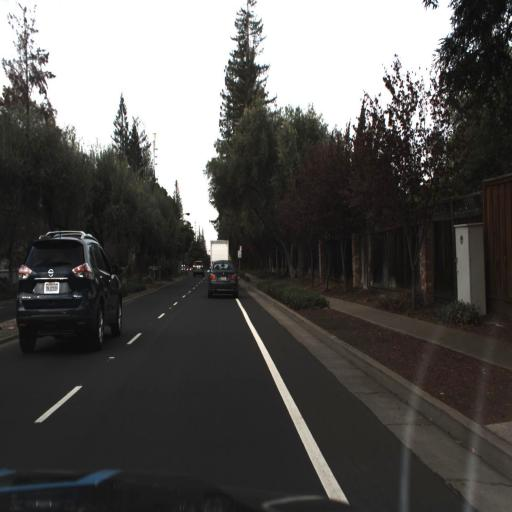car: (14, 220, 125, 358), (204, 258, 242, 298), (190, 253, 205, 278)
truck: (208, 237, 230, 266)
